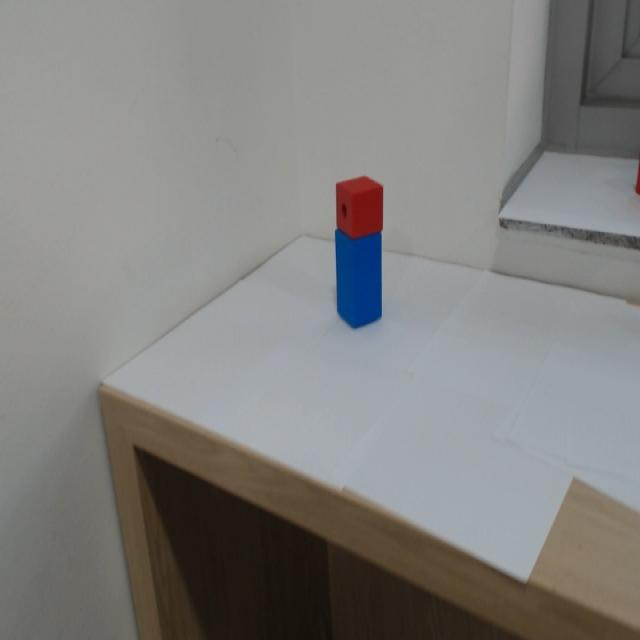cube: (334, 170, 393, 237)
